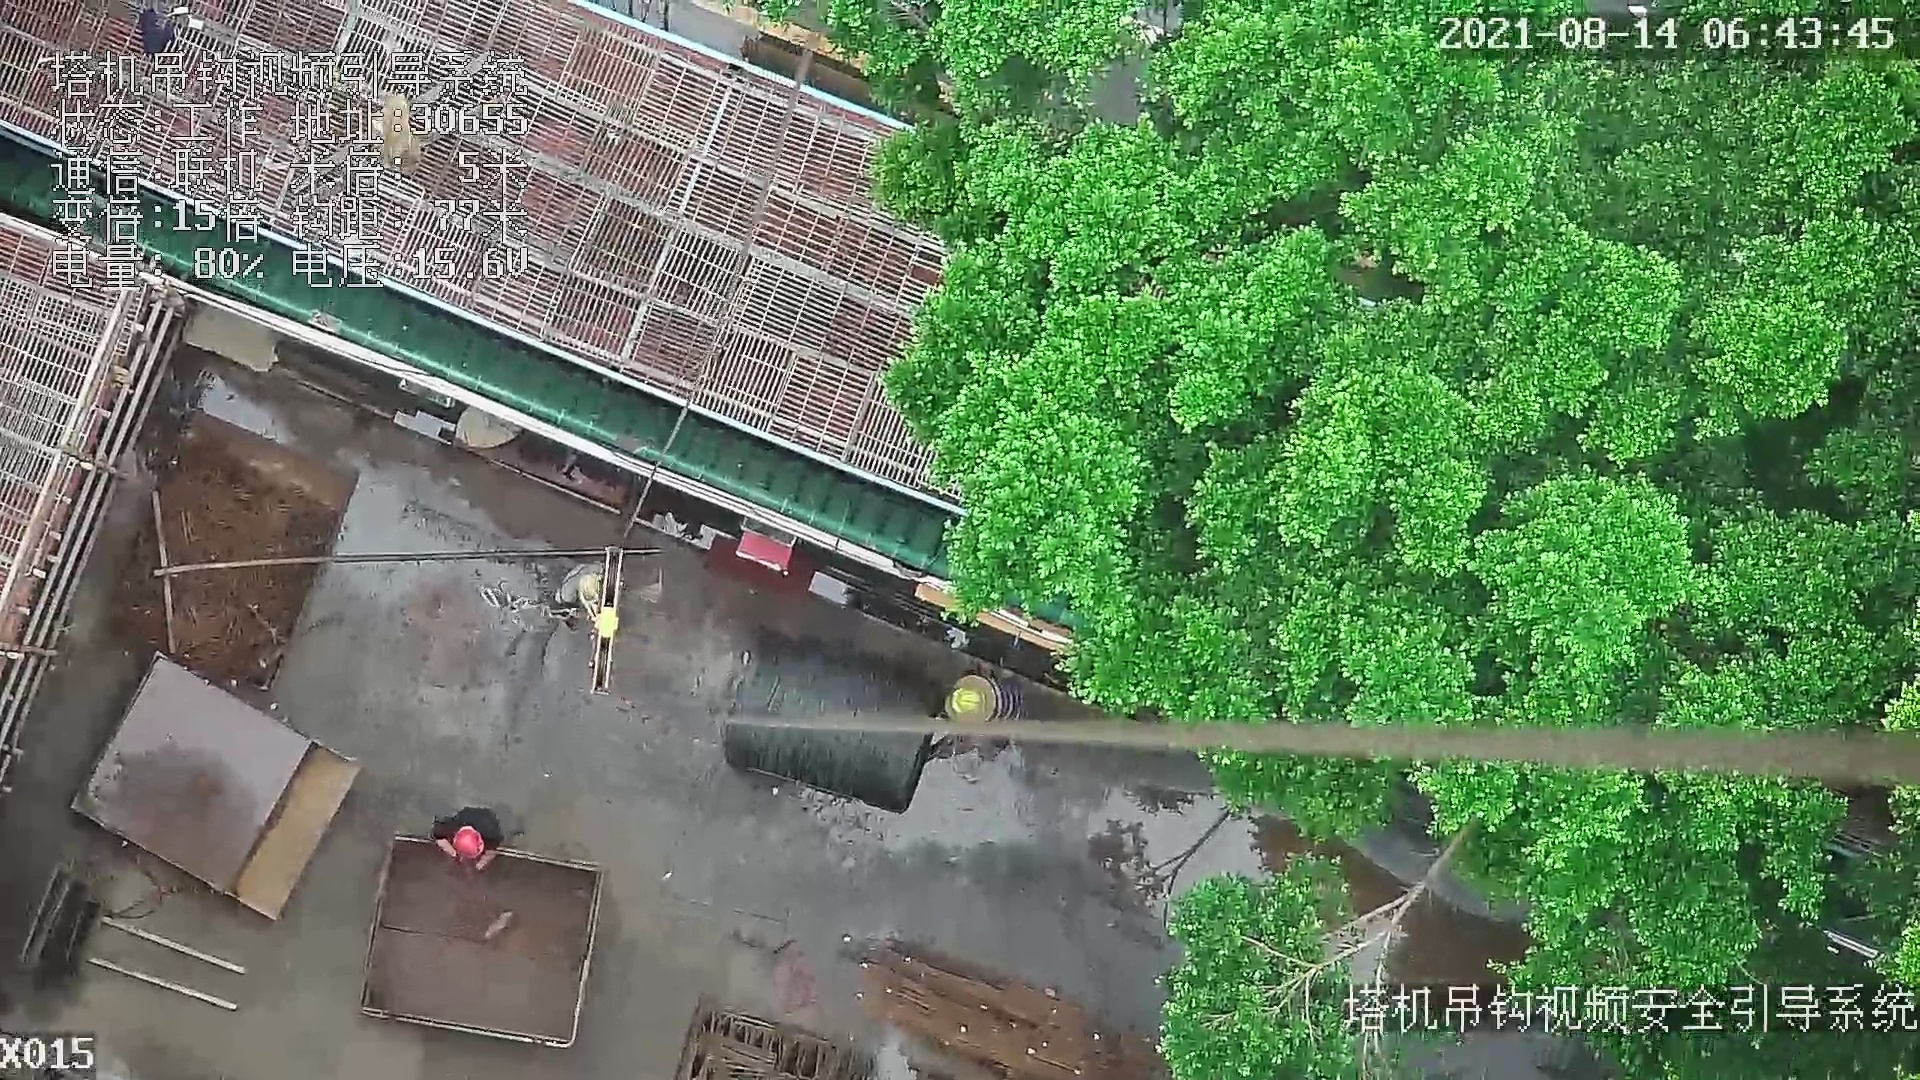helmet: (454, 824, 486, 856), (952, 686, 981, 717), (575, 578, 604, 600)
hook: (574, 542, 628, 697)
person: (935, 671, 1035, 747), (428, 809, 512, 867), (554, 565, 621, 615)
